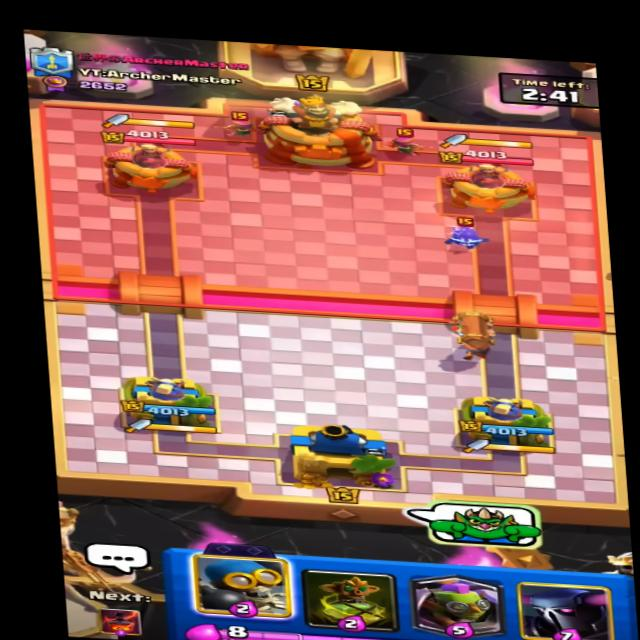Archer: (220, 110, 269, 139), (386, 126, 428, 158)
Espirit: (444, 224, 488, 248)
